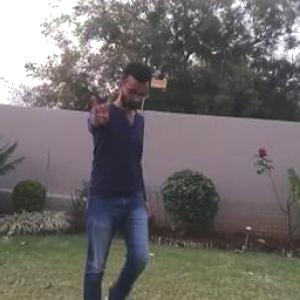takeoff-hand: (81, 82, 118, 124)
